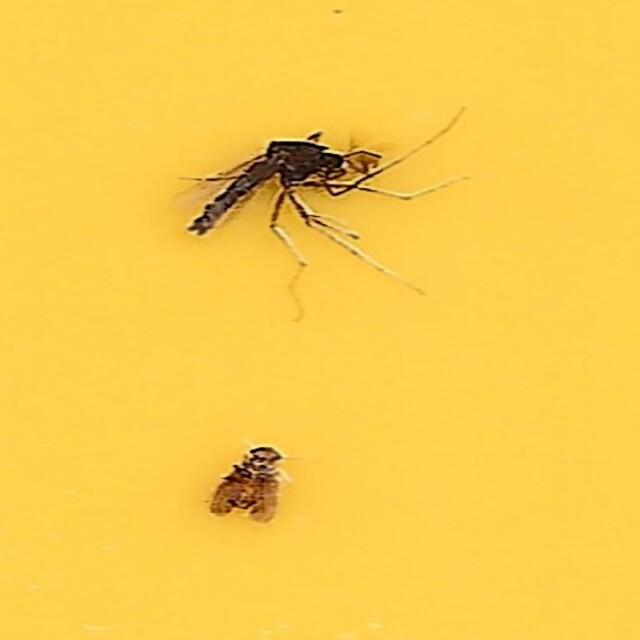Brachycera: (180, 117, 460, 309)
Hemiptera: (210, 444, 284, 523)
